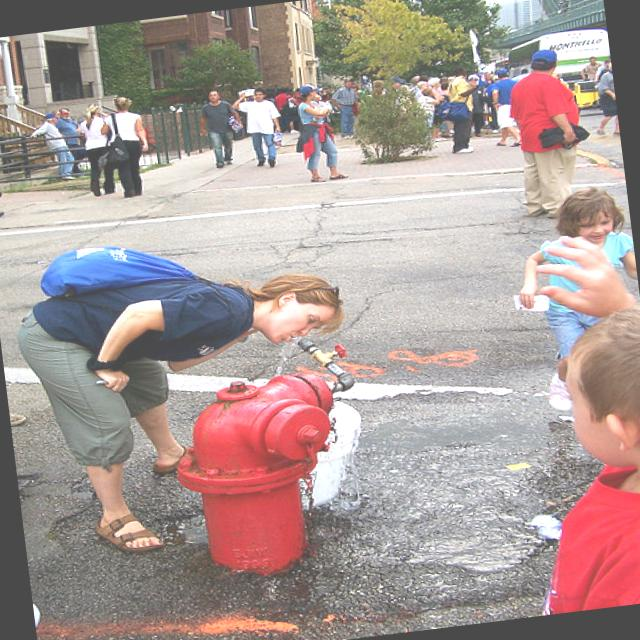Vehicle: (504, 26, 612, 82)
